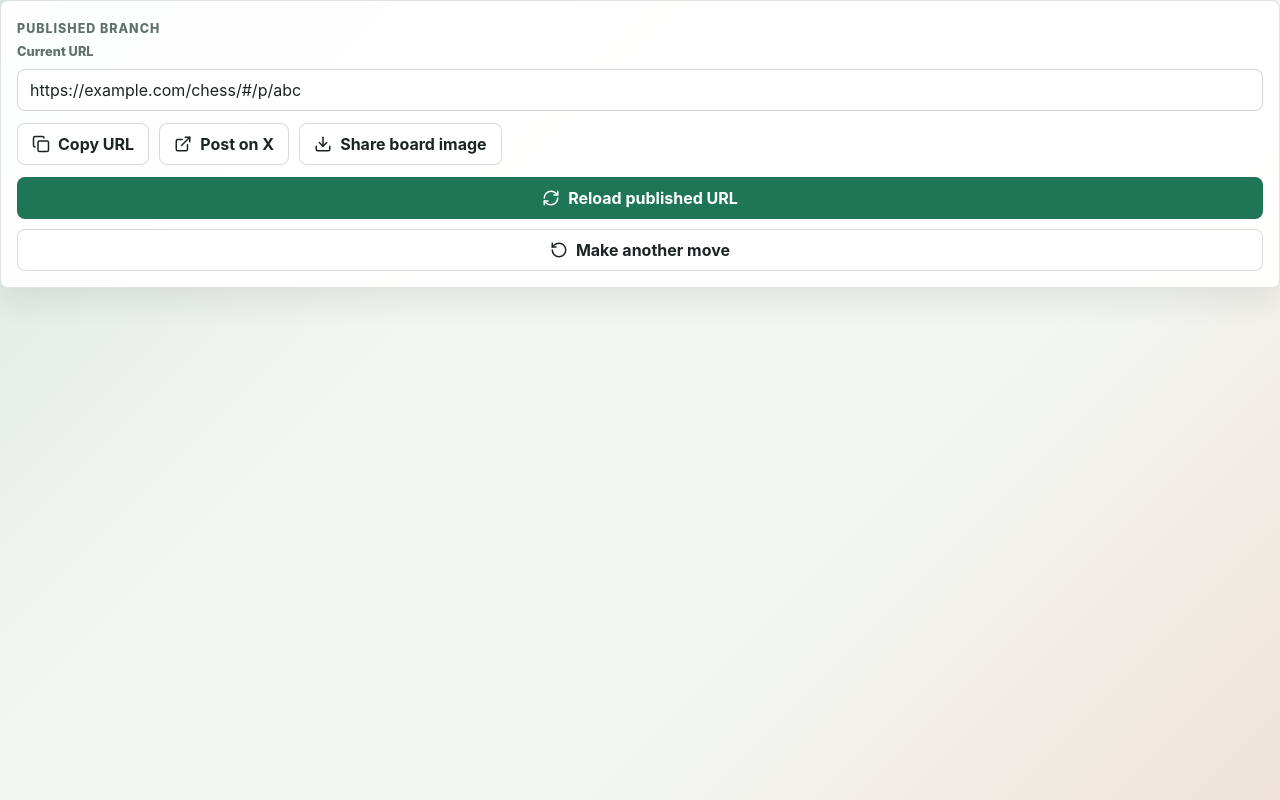
Scenario: SharePanel › copies through the legacy selection fallback when Clipboard API is unavailable
The width and height of the screenshot is (1280, 800).
Step 1. Click the button "Copy URL" → [83, 144], box [17, 123, 149, 165]
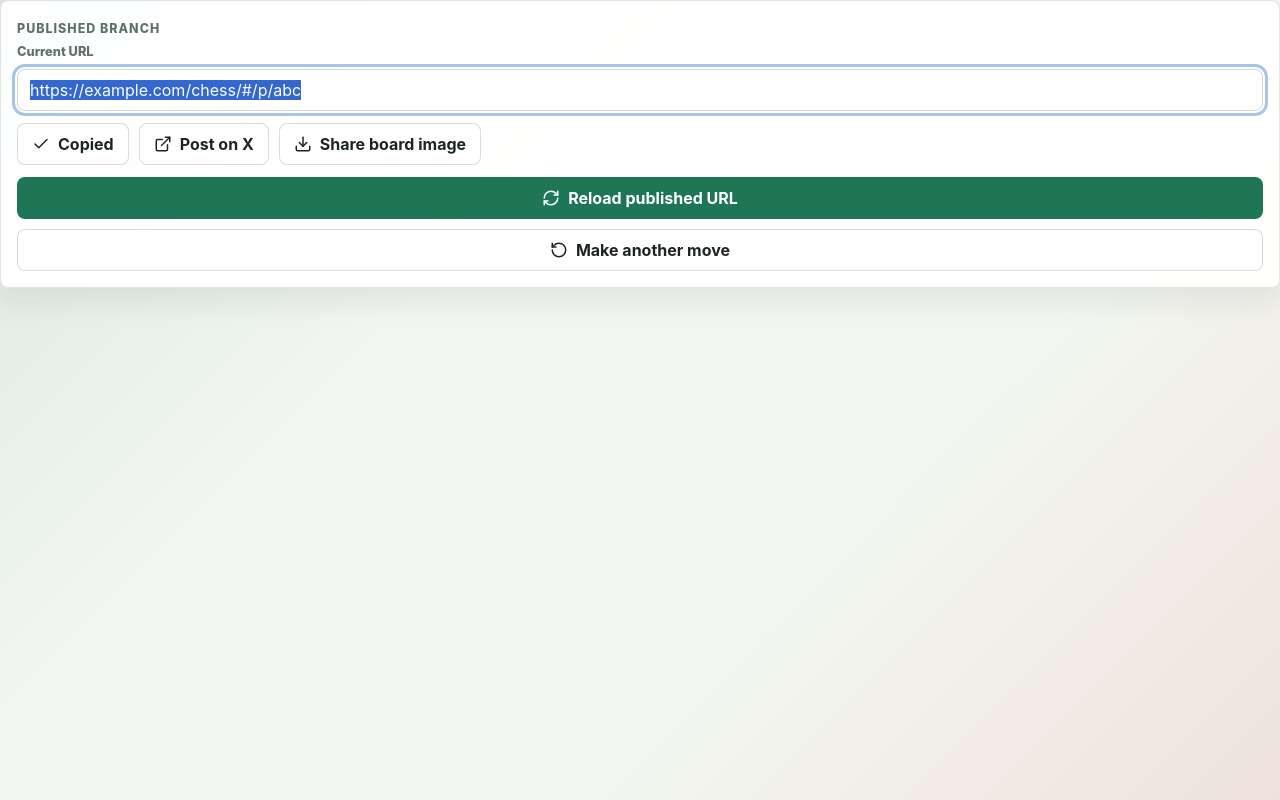
Result: the button "Copied" is shown at [17, 123, 129, 165]
